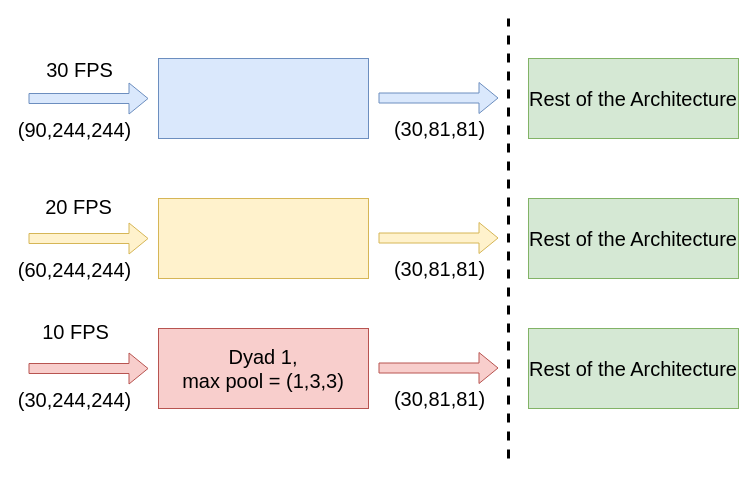
This 756x478 diagram has some shape labels left out. The box of each missing label's shape, as (x1, y1, x2, y2) in pixels:
Dyad 1, max pool = (2,3,3): (158, 198, 368, 278)
Dyad 1, max pool = (3,3,3): (158, 58, 368, 138)
